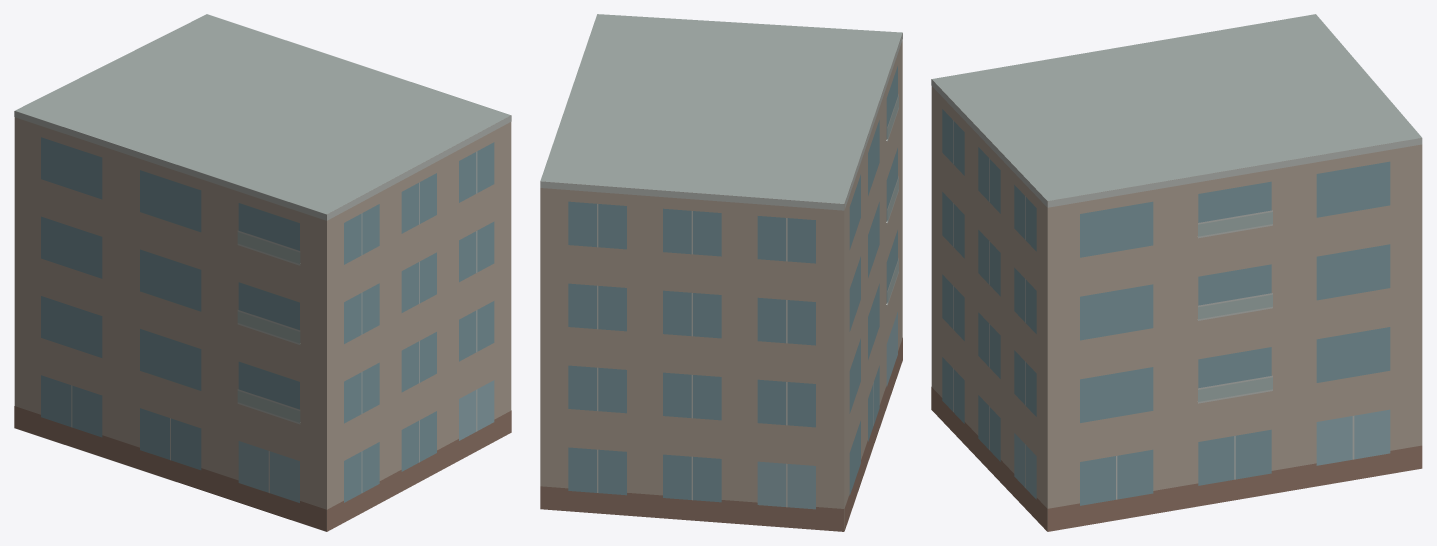
Rendered from survey-upis-32731632.glb.
The picture shows the model from 3 angles, left to right: view 1: azimuth 30°, elevation 25°; view 2: azimuth 150°, elevation 25°; view 3: azimuth 270°, elevation 25°; orthographic projection. The views are drawn at different scales.
Parts seen in each view (by area): view 1: survey-upis-32731632.tmp; view 2: survey-upis-32731632.tmp; view 3: survey-upis-32731632.tmp.
Boxes of the visible parts, box(x1,y1,x2,y2) form: survey-upis-32731632.tmp: box(14, 14, 511, 531); survey-upis-32731632.tmp: box(540, 14, 902, 531); survey-upis-32731632.tmp: box(931, 14, 1422, 531).
Size of the model in its own units: 14.82 by 12.2 by 16.42.
